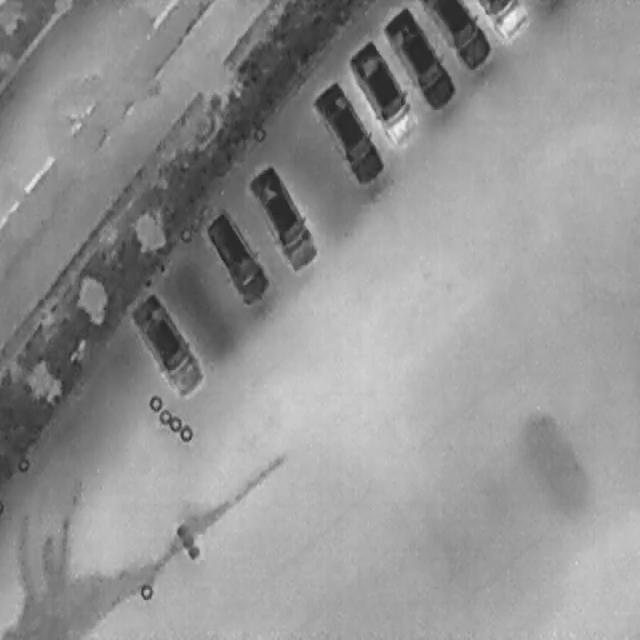Car: (122, 282, 211, 406), (241, 155, 326, 279), (305, 71, 390, 194), (340, 31, 426, 152), (375, 0, 461, 118), (197, 201, 275, 311), (421, 0, 491, 69), (475, 0, 530, 42)
